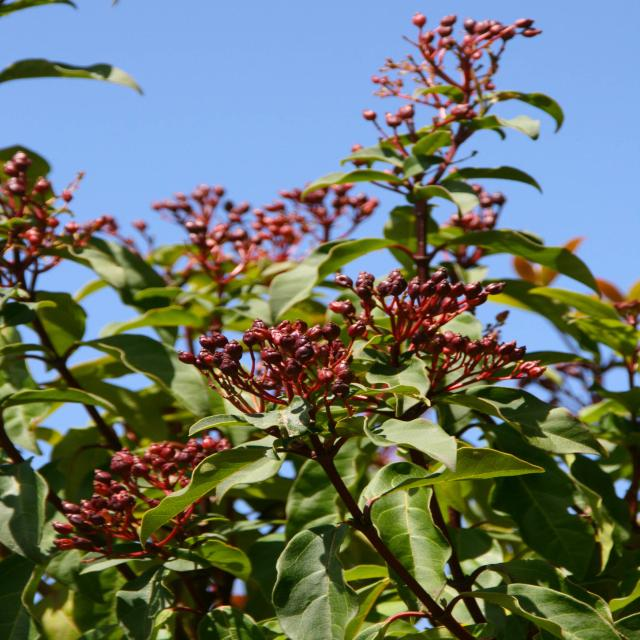Viburnum Emerald Beauty: (56, 272, 561, 640)
